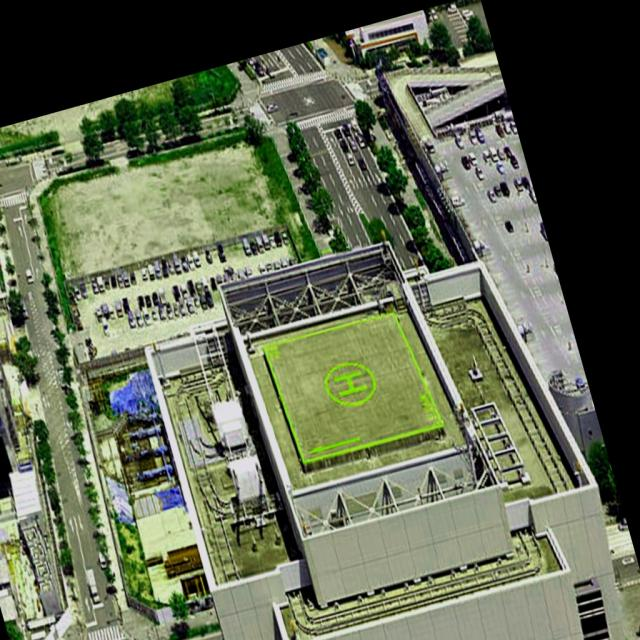helipad: (321, 360, 377, 408)
